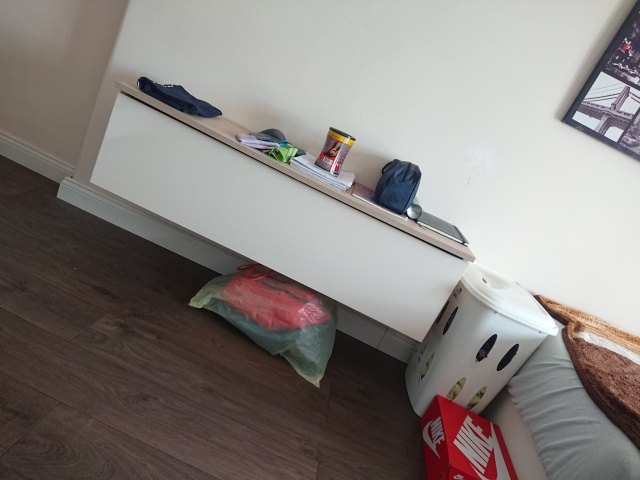Nescafe Classic 225g: (311, 125, 358, 179)
